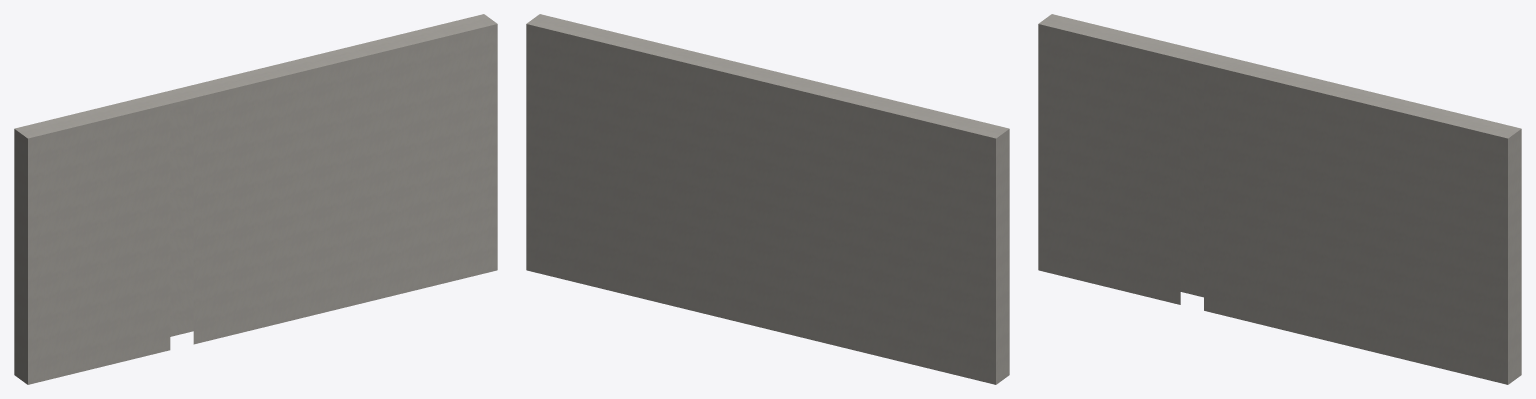
The model's file is WallF.obj.
The picture shows the model from 3 angles, left to right: view 1: azimuth 30°, elevation 25°; view 2: azimuth 150°, elevation 25°; view 3: azimuth 330°, elevation 25°; orthographic projection.
Parts seen in each view (by area): view 1: Box011; view 2: Box011; view 3: Box011.
Boxes of the visible parts, box(x1,y1,x2,y2) form: Box011: box(14, 14, 497, 384); Box011: box(526, 14, 1009, 384); Box011: box(1038, 14, 1521, 384).
Size of the model in its own units: 236 by 118 by 11.81.
